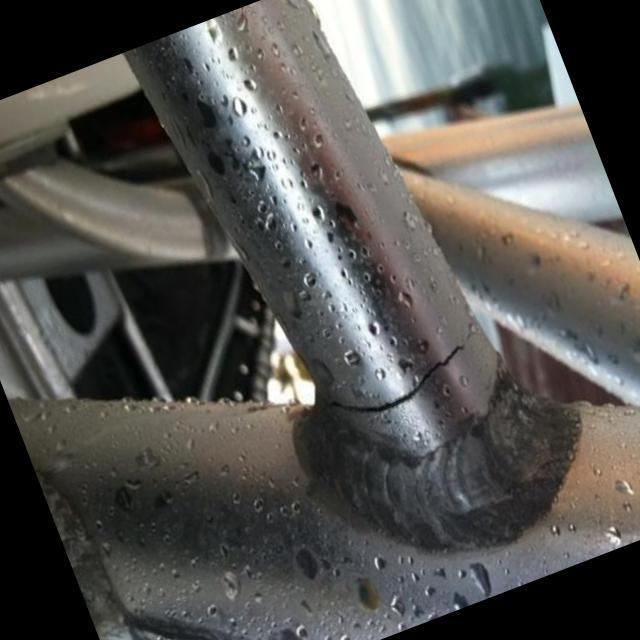defect: (315, 336, 471, 418)
